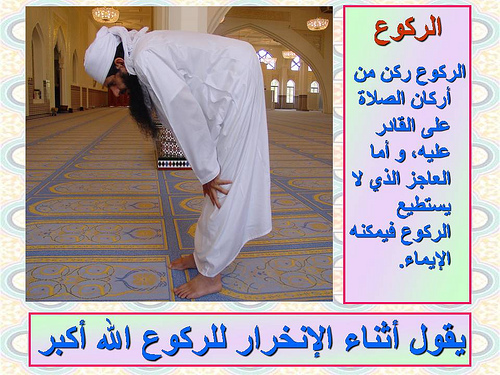ruku: (63, 25, 297, 304)
